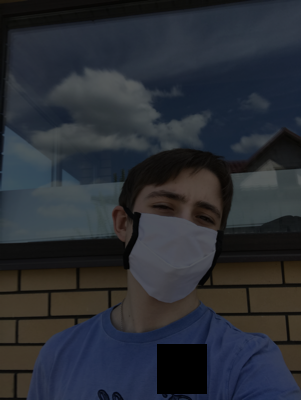with_mask: (123, 176, 223, 304)
